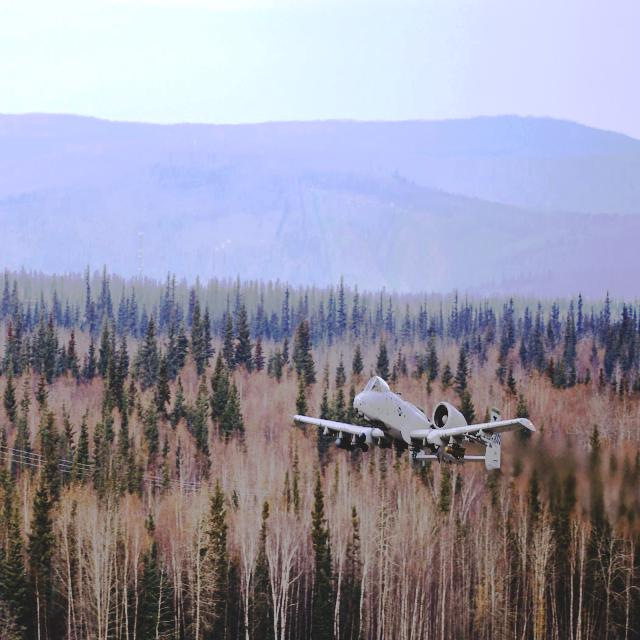Aircraft: (290, 362, 536, 486)
